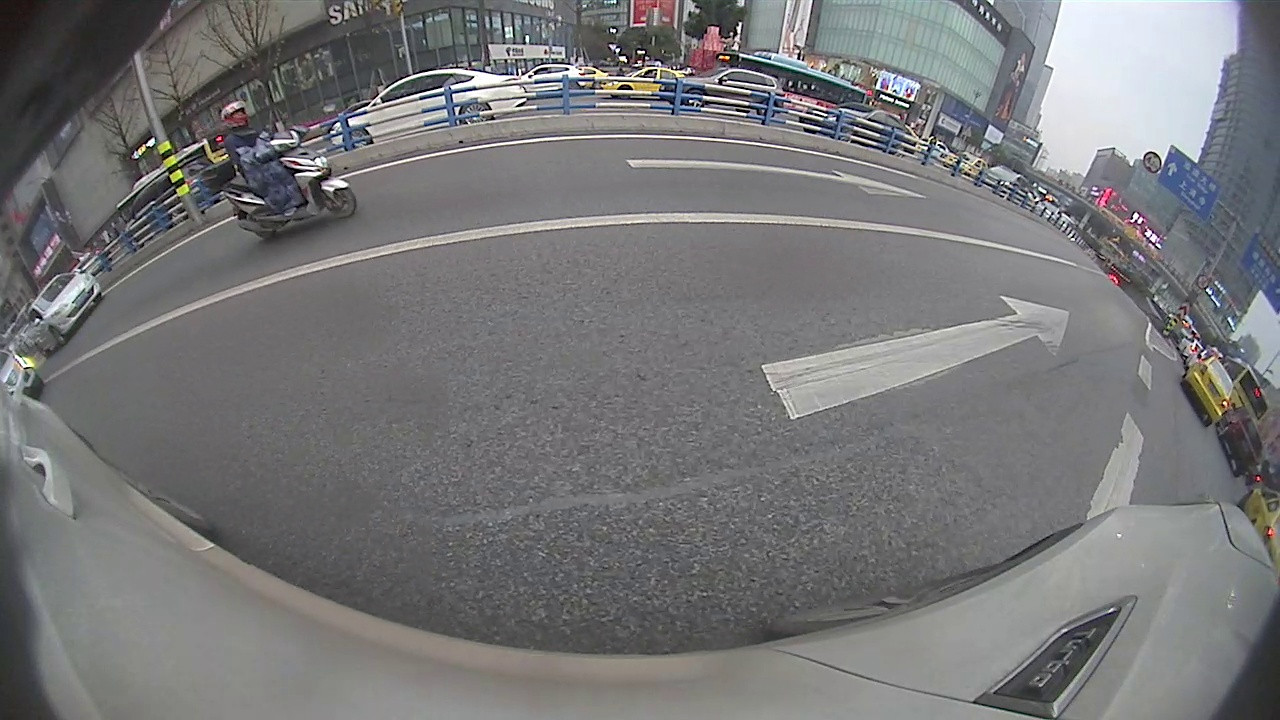car: (326, 67, 532, 154), (22, 265, 104, 359), (656, 64, 786, 123), (796, 100, 919, 160), (1179, 353, 1235, 430)
front: (321, 182, 354, 218), (681, 89, 708, 111)
rear: (461, 98, 492, 127)
rider: (195, 98, 356, 244)
